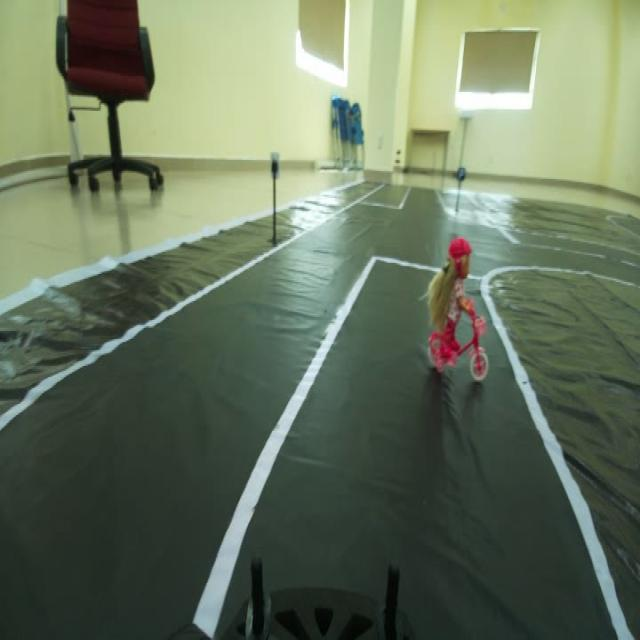pedestrian: (424, 240, 494, 383)
